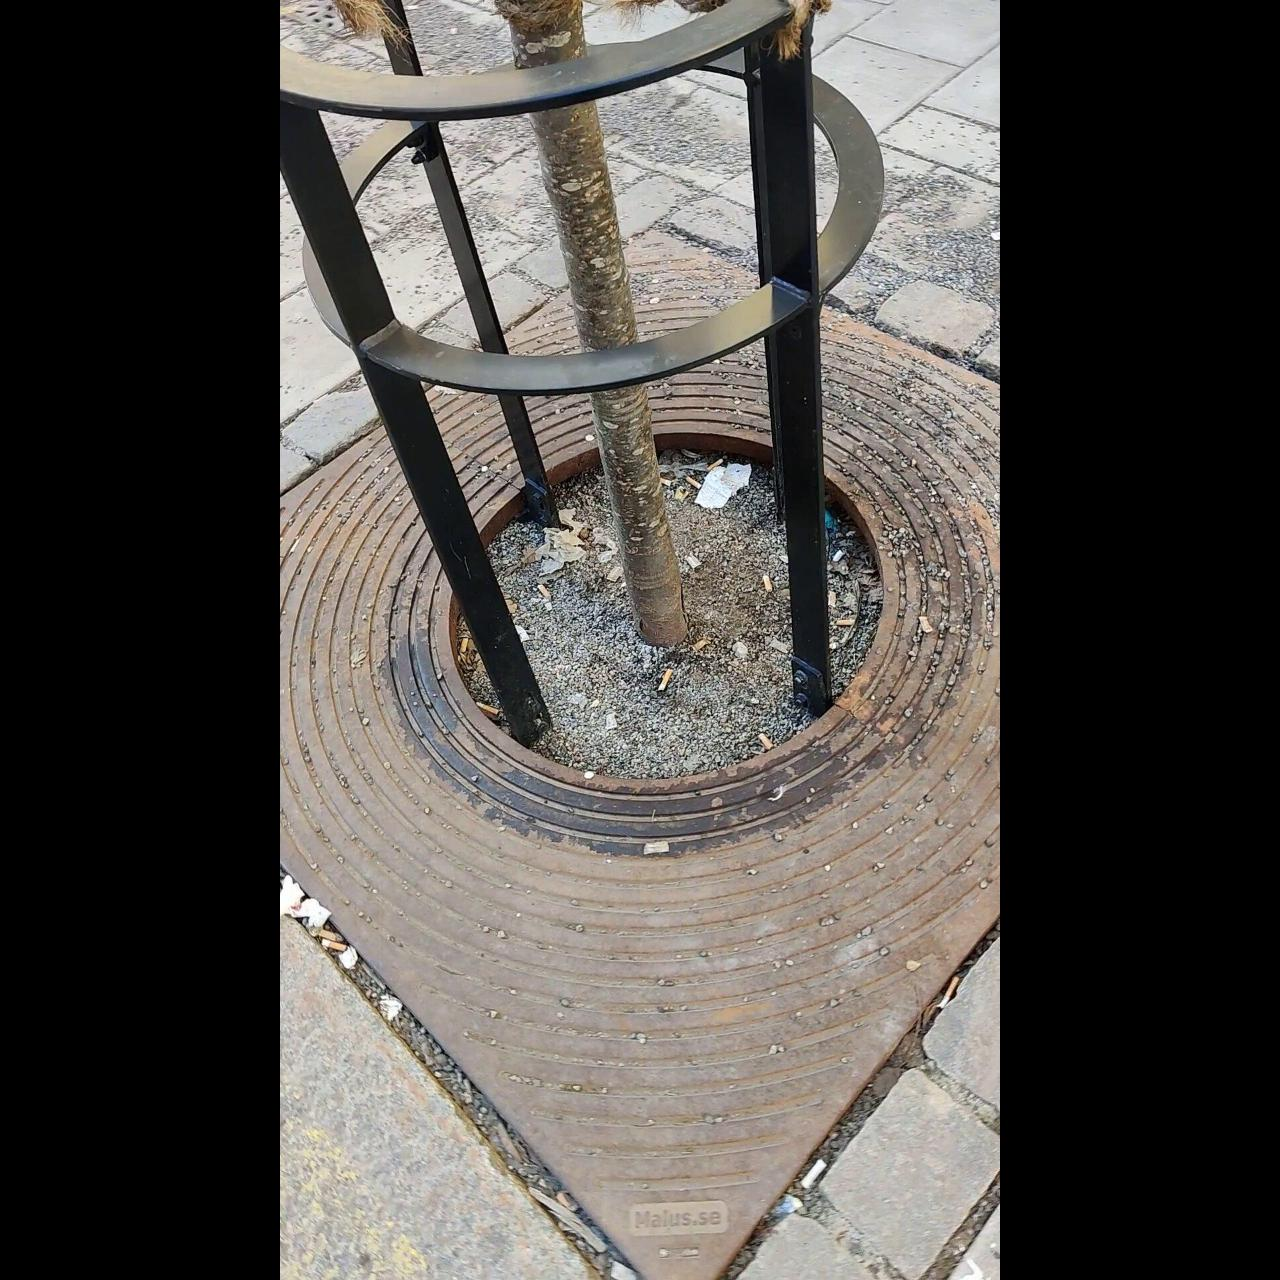cigarettes_butts: (803, 1160, 824, 1191), (474, 699, 501, 715), (659, 667, 673, 695), (761, 573, 775, 591), (835, 618, 857, 628), (316, 926, 336, 938), (537, 583, 551, 598), (710, 457, 724, 471), (761, 731, 772, 748), (688, 474, 700, 490), (322, 942, 348, 949), (659, 477, 675, 486), (461, 640, 468, 656)
others: (644, 840, 668, 855), (918, 614, 933, 634), (695, 641, 709, 653)
